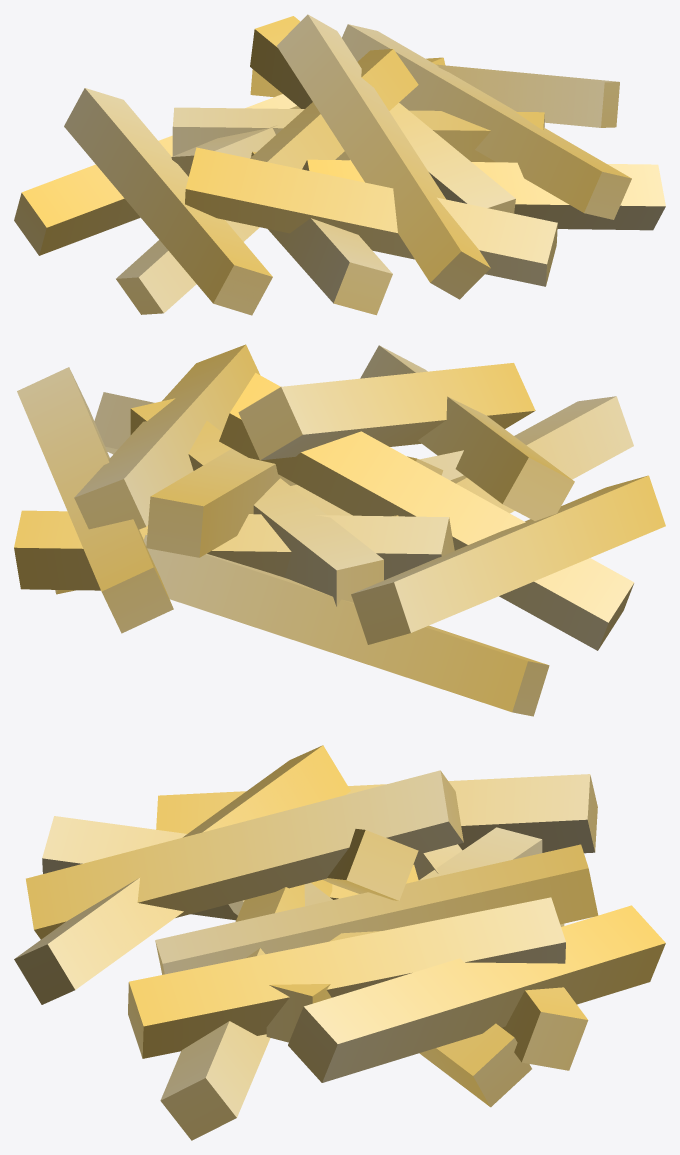
File: DoubleCooked_FriesRaw.fbx
3 renders of one model, top to bottom at view 1: azimuth 30°, elevation 25°; view 2: azimuth 150°, elevation 25°; view 3: azimuth 270°, elevation 25°, orthographic. The views are drawn at different scales.
Visible parts, largest first — view 1: DoubleCooked_FriesRaw; view 2: DoubleCooked_FriesRaw; view 3: DoubleCooked_FriesRaw.
Boxes of the visible parts, bbox=[...] form: DoubleCooked_FriesRaw: bbox=[14, 14, 665, 315]; DoubleCooked_FriesRaw: bbox=[14, 344, 665, 716]; DoubleCooked_FriesRaw: bbox=[14, 745, 665, 1140].
Size of the model in its own units: 21.66 by 8.39 by 20.07.
1 material, 1 textured.
